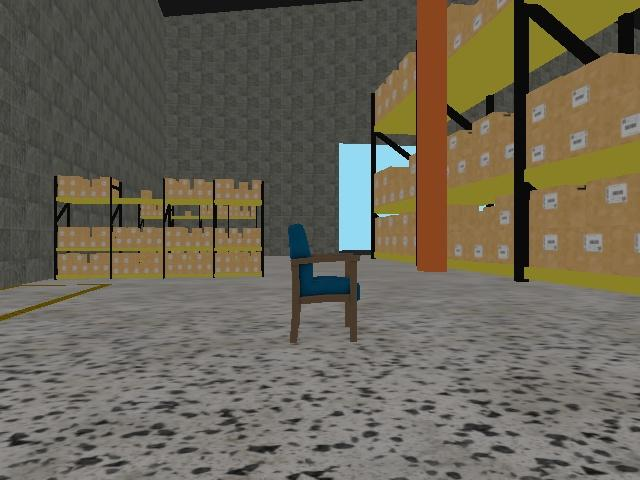chair: (286, 221, 363, 345)
